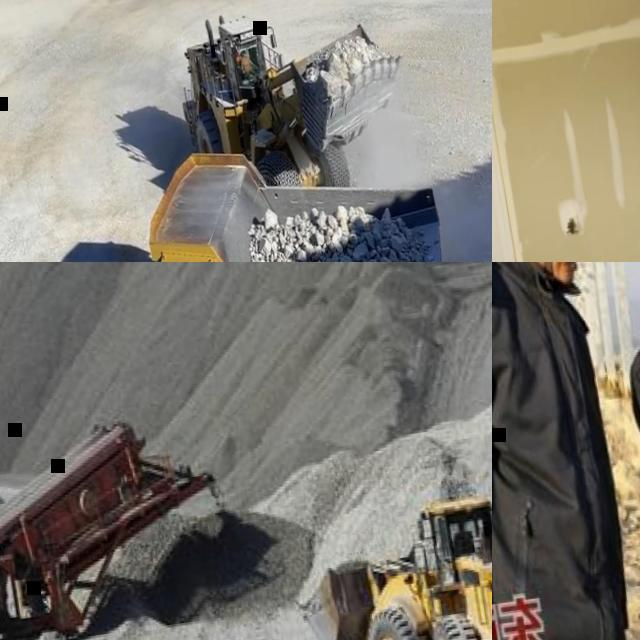NO-Hardhat: (241, 49, 246, 54)
NO-Mask: (537, 262, 580, 282)
NO-Safety Vest: (492, 262, 633, 640), (242, 56, 250, 72)
Person: (492, 262, 640, 640), (597, 262, 640, 640), (585, 0, 640, 262), (449, 518, 475, 558), (238, 48, 253, 75)
vehicle: (166, 0, 424, 231), (0, 406, 234, 640), (120, 116, 482, 262), (276, 462, 492, 640)
